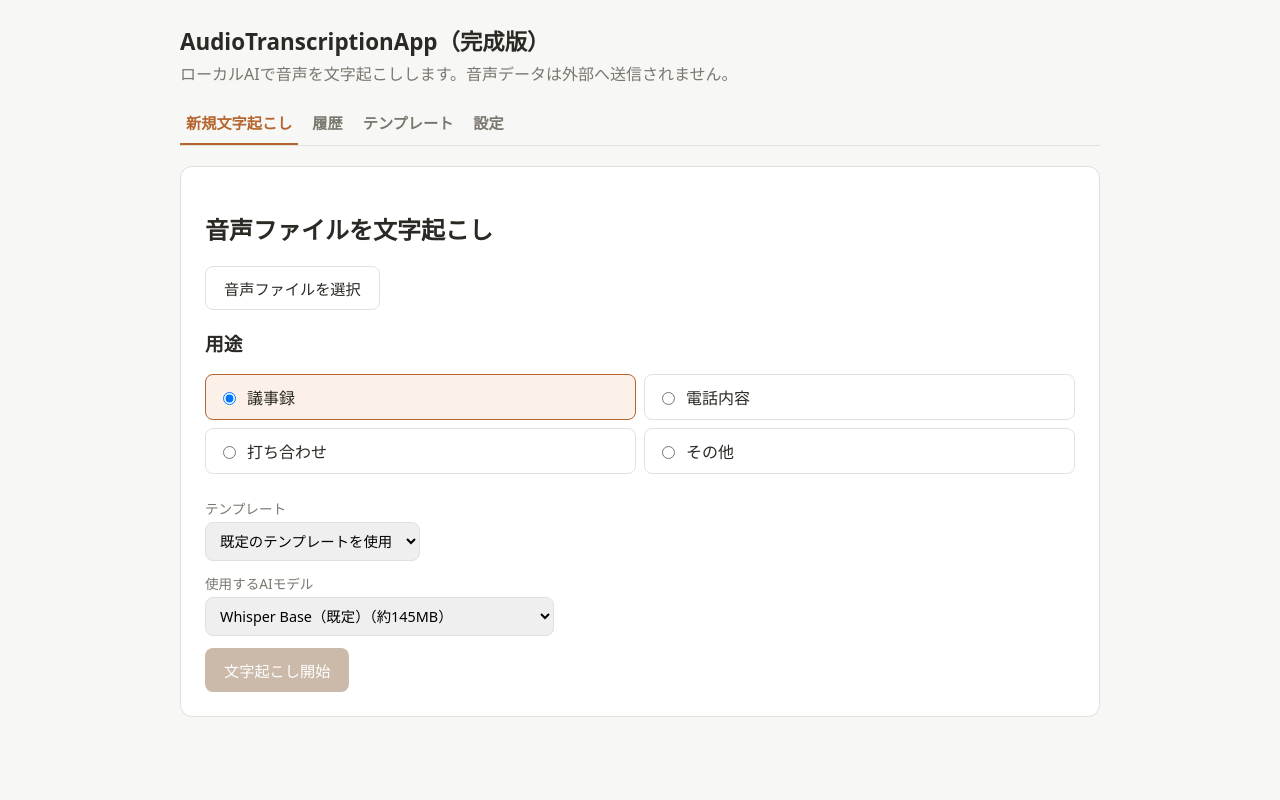
Scenario: App（完成版 画面遷移） › 処理中にキャンセルすると新規文字起こし画面へ戻る
Step 1. Click the button "音声ファイルを選択" → (292, 288), box [205,266,380,310]
(page scrolled)
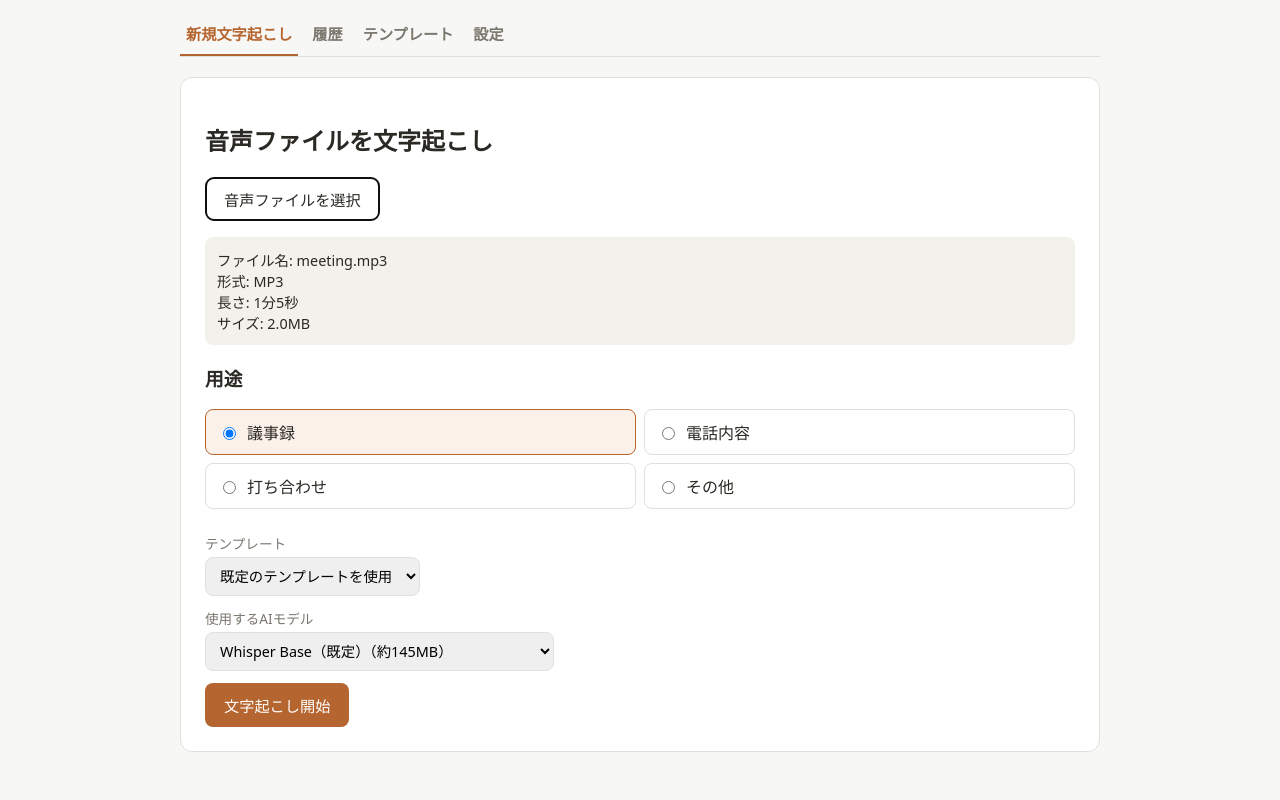
Check: the element with test id "file-info" is shown, box [205,237,1075,345]
Step 2. Click the button with test id "start-button" → (277, 705), box [205,683,349,727]
(page scrolled)
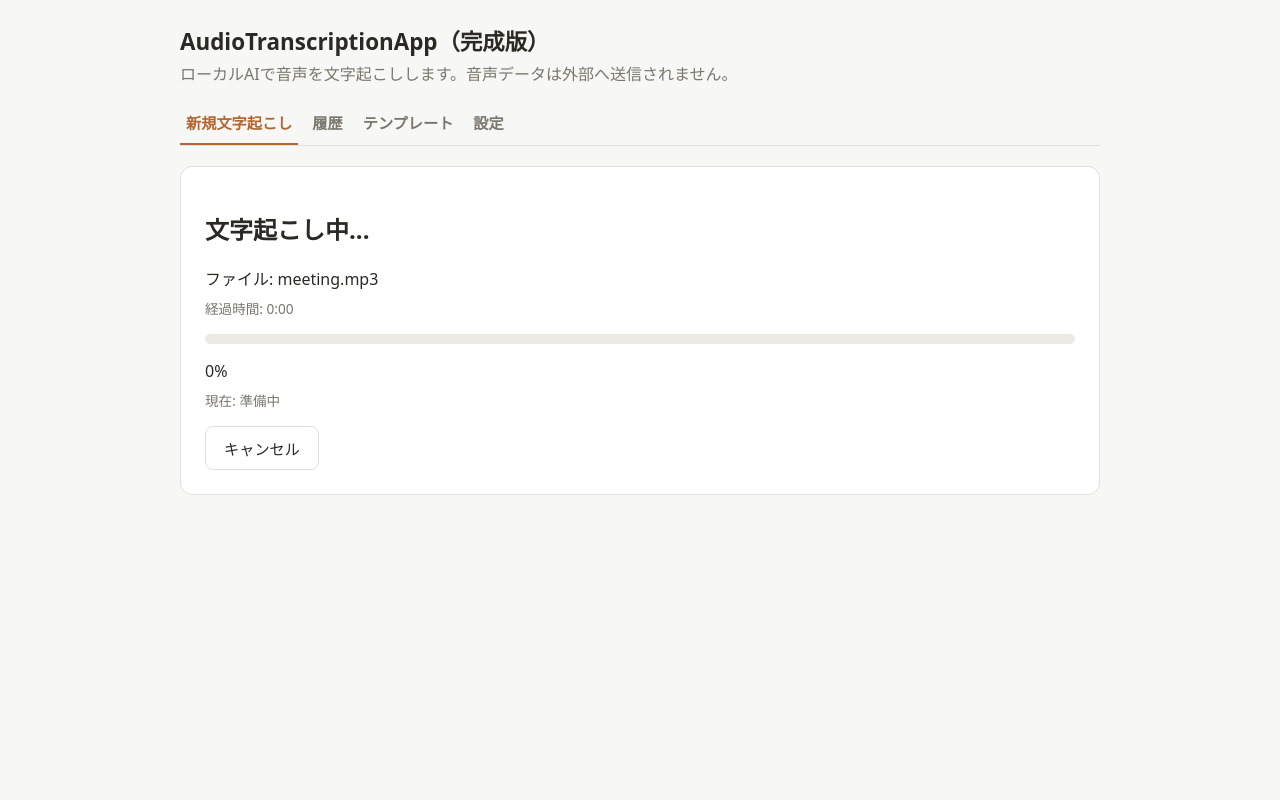
Check: the element with test id "processing-screen" is shown, box [180,166,1100,495]
Step 3. Click the button "キャンセル" → (262, 448), box [205,426,319,470]
(page scrolled)
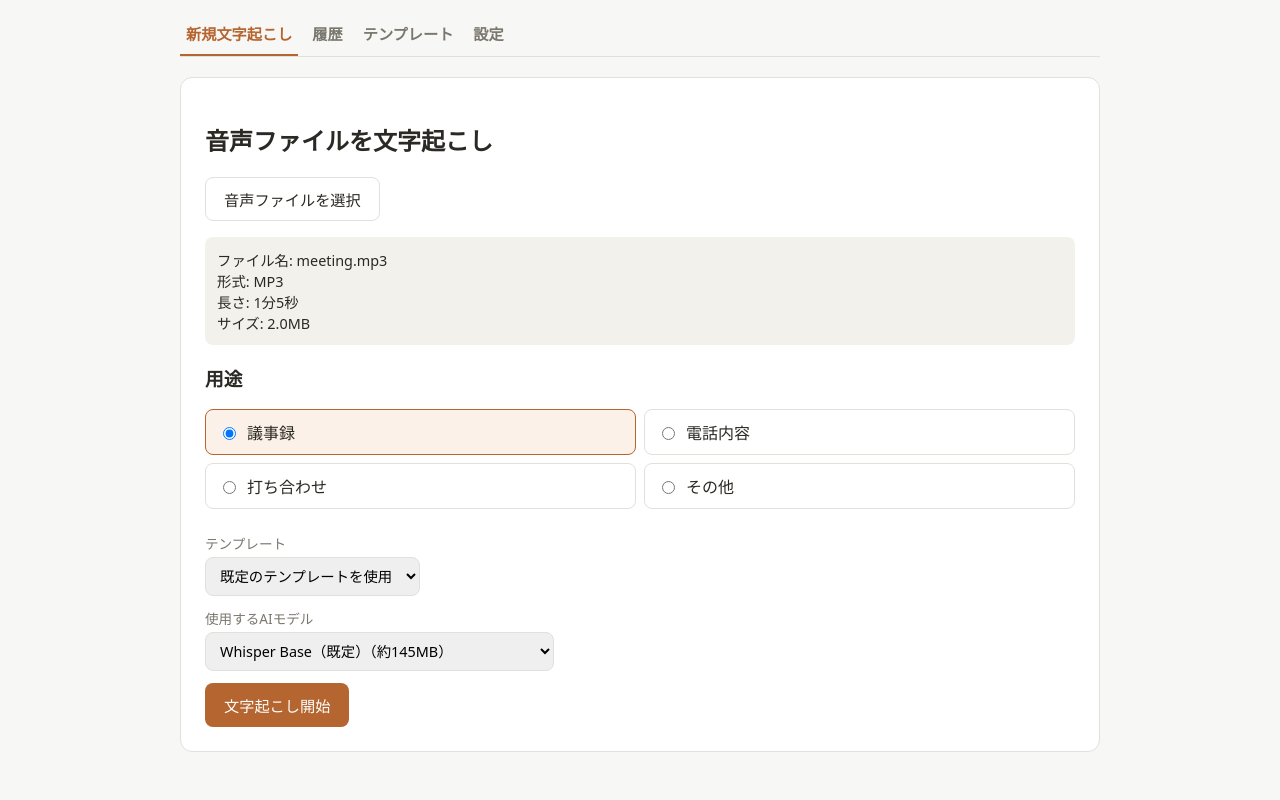
Check: the element with test id "new-transcription-screen" is shown
